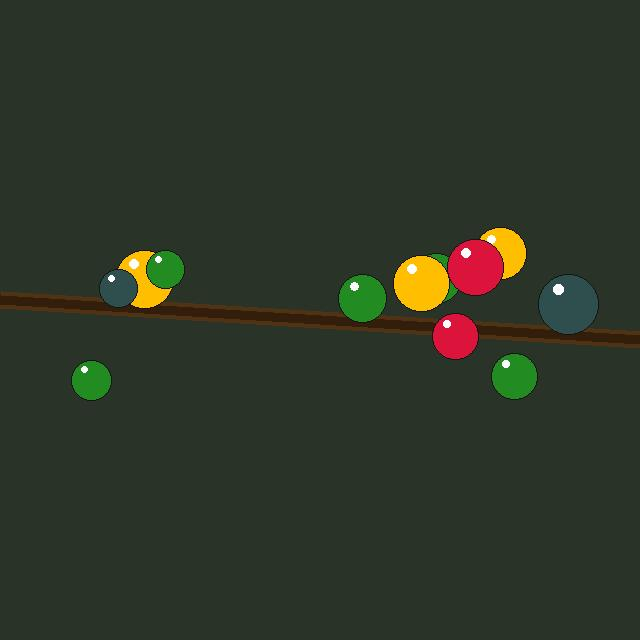Dry_Damaged: (538, 274, 598, 334), (99, 269, 137, 307)
Ripe: (447, 239, 503, 295), (432, 313, 478, 359)
Ripening: (115, 250, 173, 308), (393, 255, 449, 311), (474, 227, 526, 279)
Unripe: (411, 253, 461, 303), (338, 274, 386, 322), (491, 353, 537, 399), (71, 360, 111, 400), (146, 250, 184, 288)
